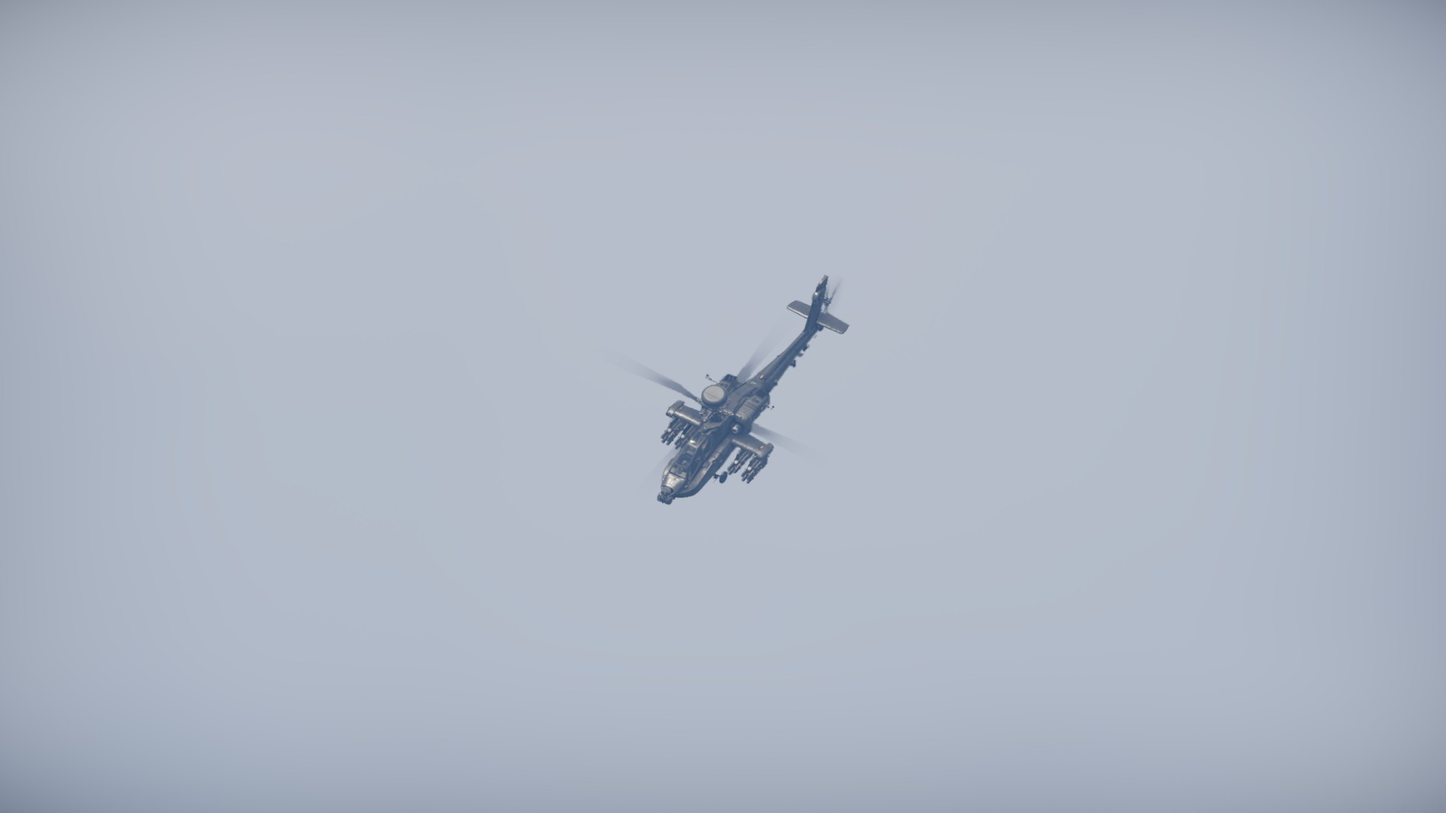ah64: (603, 274, 854, 506)
